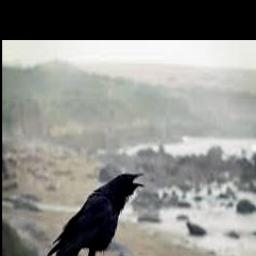Crow: (45, 171, 146, 256)
